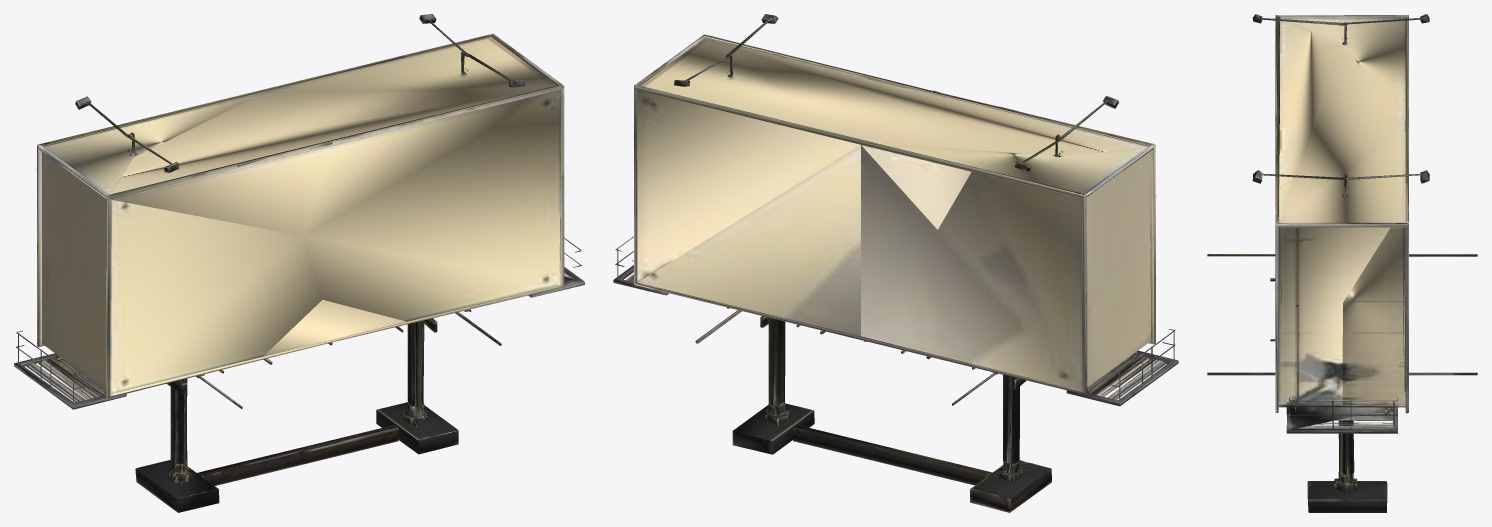
File: billboard.glb
3 renders of one model, left to right at view 1: azimuth 30°, elevation 25°; view 2: azimuth 150°, elevation 25°; view 3: azimuth 270°, elevation 25°, orthographic. The views are drawn at different scales.
Bounding box in the file's own units: 0.9497 × 0.6695 × 0.4624.
1 material, 1 textured.
